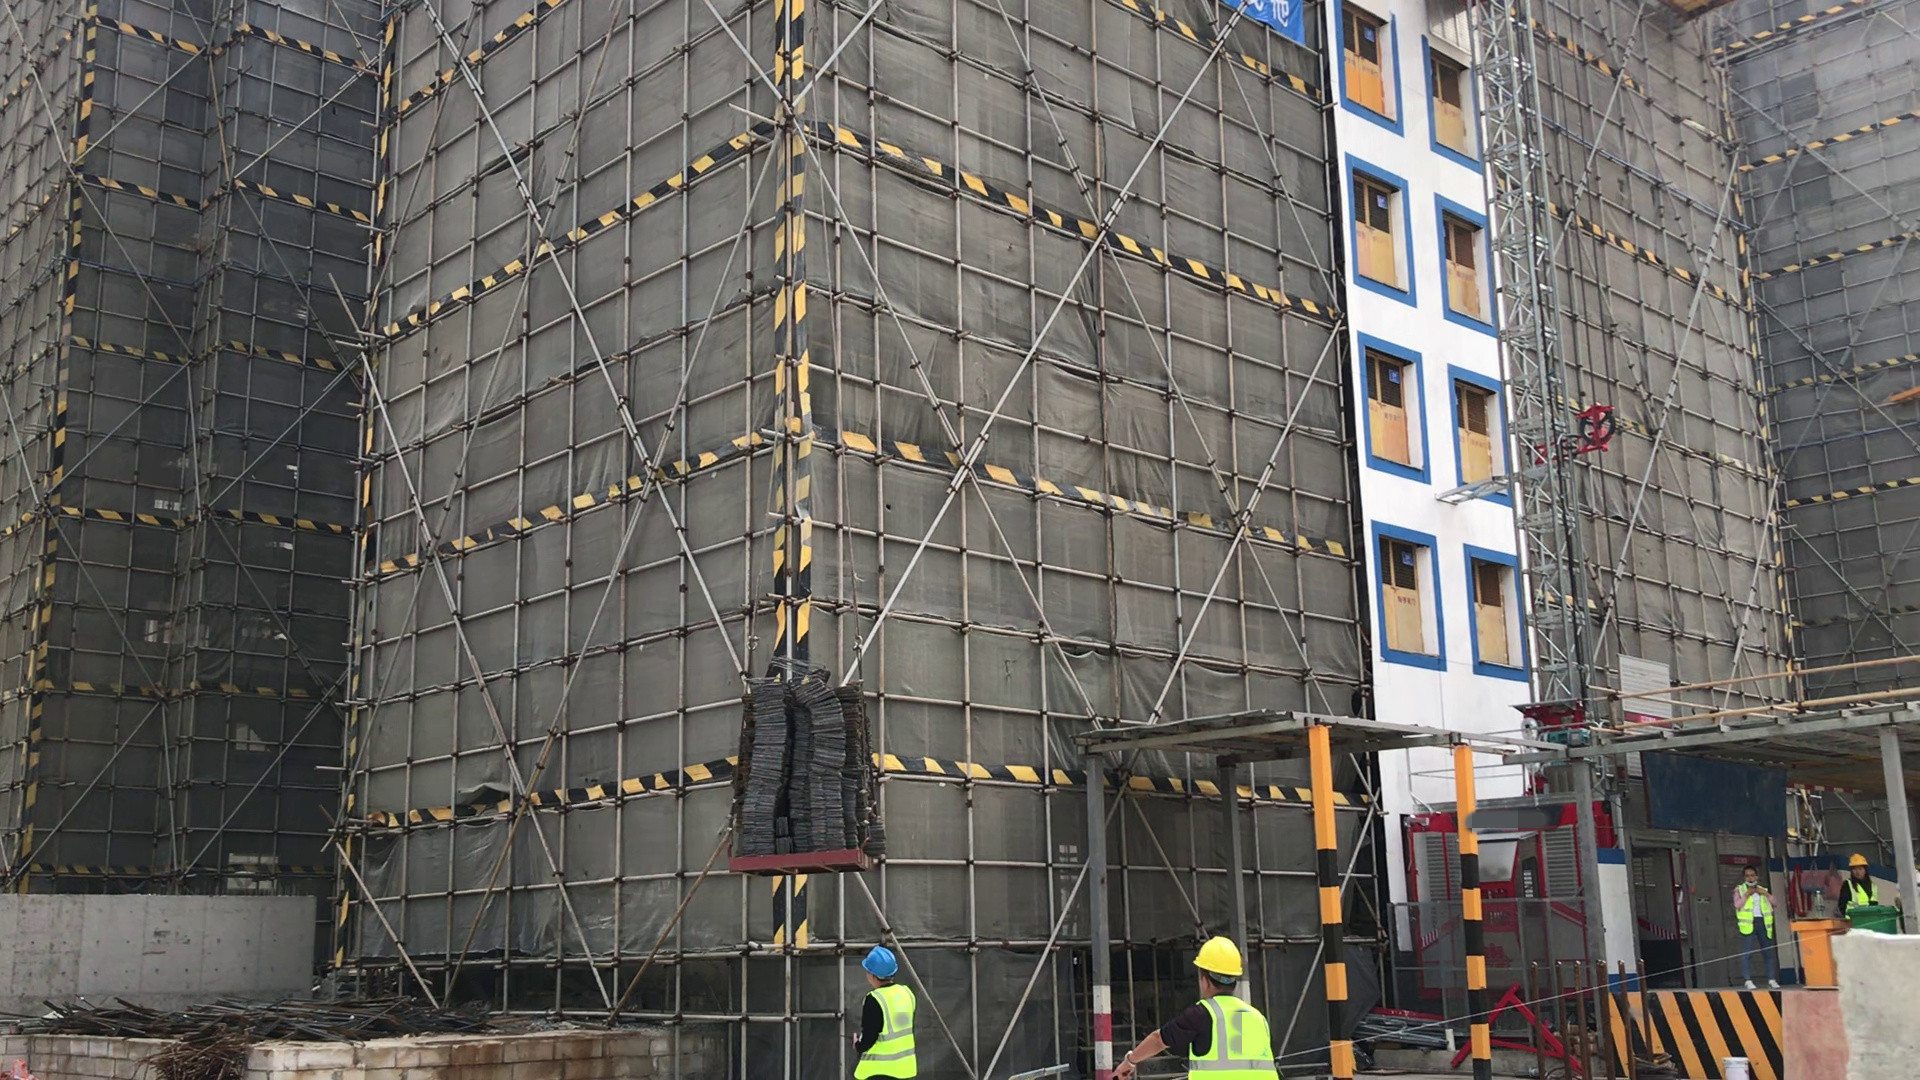helmet: (1192, 931, 1244, 980), (862, 946, 899, 976), (1848, 855, 1867, 868)
person: (1111, 932, 1282, 1080), (840, 946, 923, 1080), (1723, 868, 1788, 991), (1834, 856, 1884, 935)
vest: (1184, 999, 1274, 1080), (862, 987, 915, 1080), (1735, 886, 1773, 935), (1847, 882, 1876, 916)
